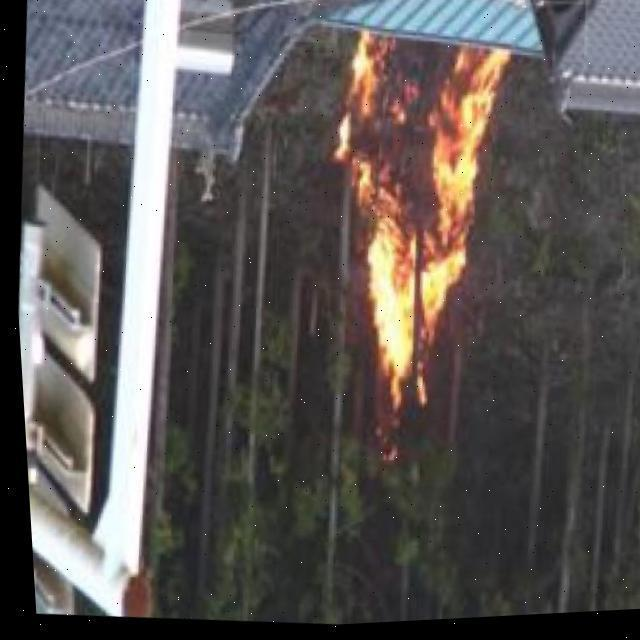fire: (310, 19, 523, 431)
